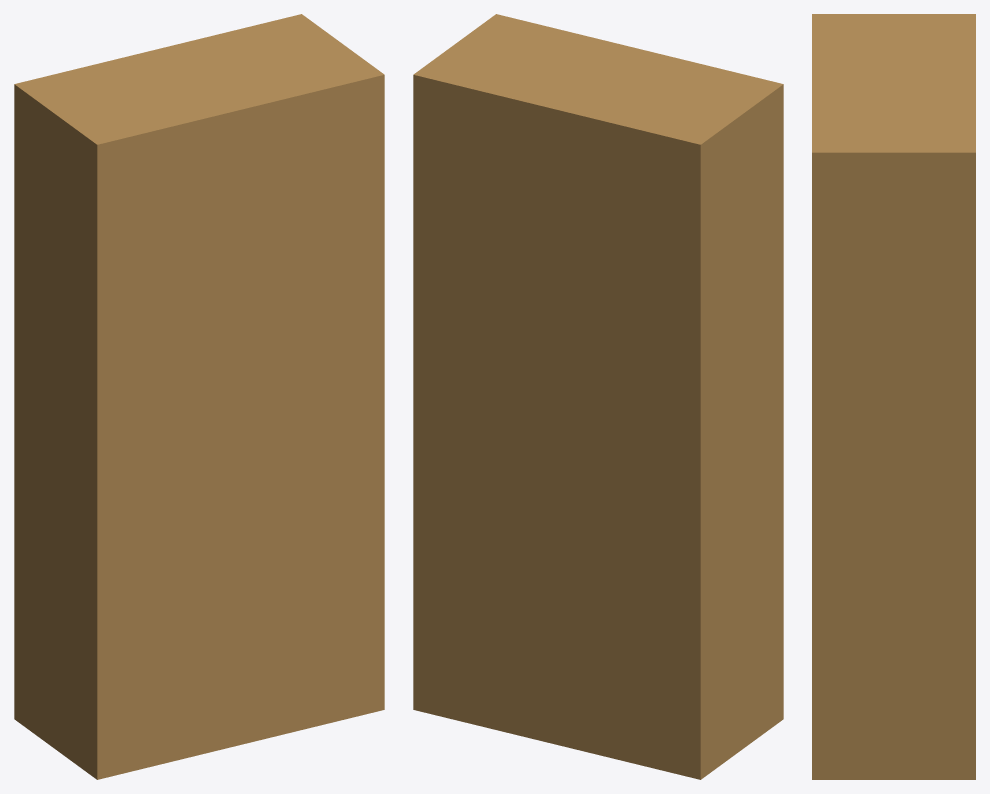
3 renders of one model, left to right at view 1: azimuth 30°, elevation 25°; view 2: azimuth 150°, elevation 25°; view 3: azimuth 270°, elevation 25°, orthographic.
Parts seen in each view (by area): view 1: RUN-029-S02-STUD-01-p2; view 2: RUN-029-S02-STUD-01-p2; view 3: RUN-029-S02-STUD-01-p2.
Part boxes in pixels (x1,y1,x2,y2): RUN-029-S02-STUD-01-p2: [14, 14, 384, 779]; RUN-029-S02-STUD-01-p2: [413, 14, 783, 779]; RUN-029-S02-STUD-01-p2: [812, 14, 975, 779].
Size of the model in its own units: 0.09 by 0.19 by 0.045.
